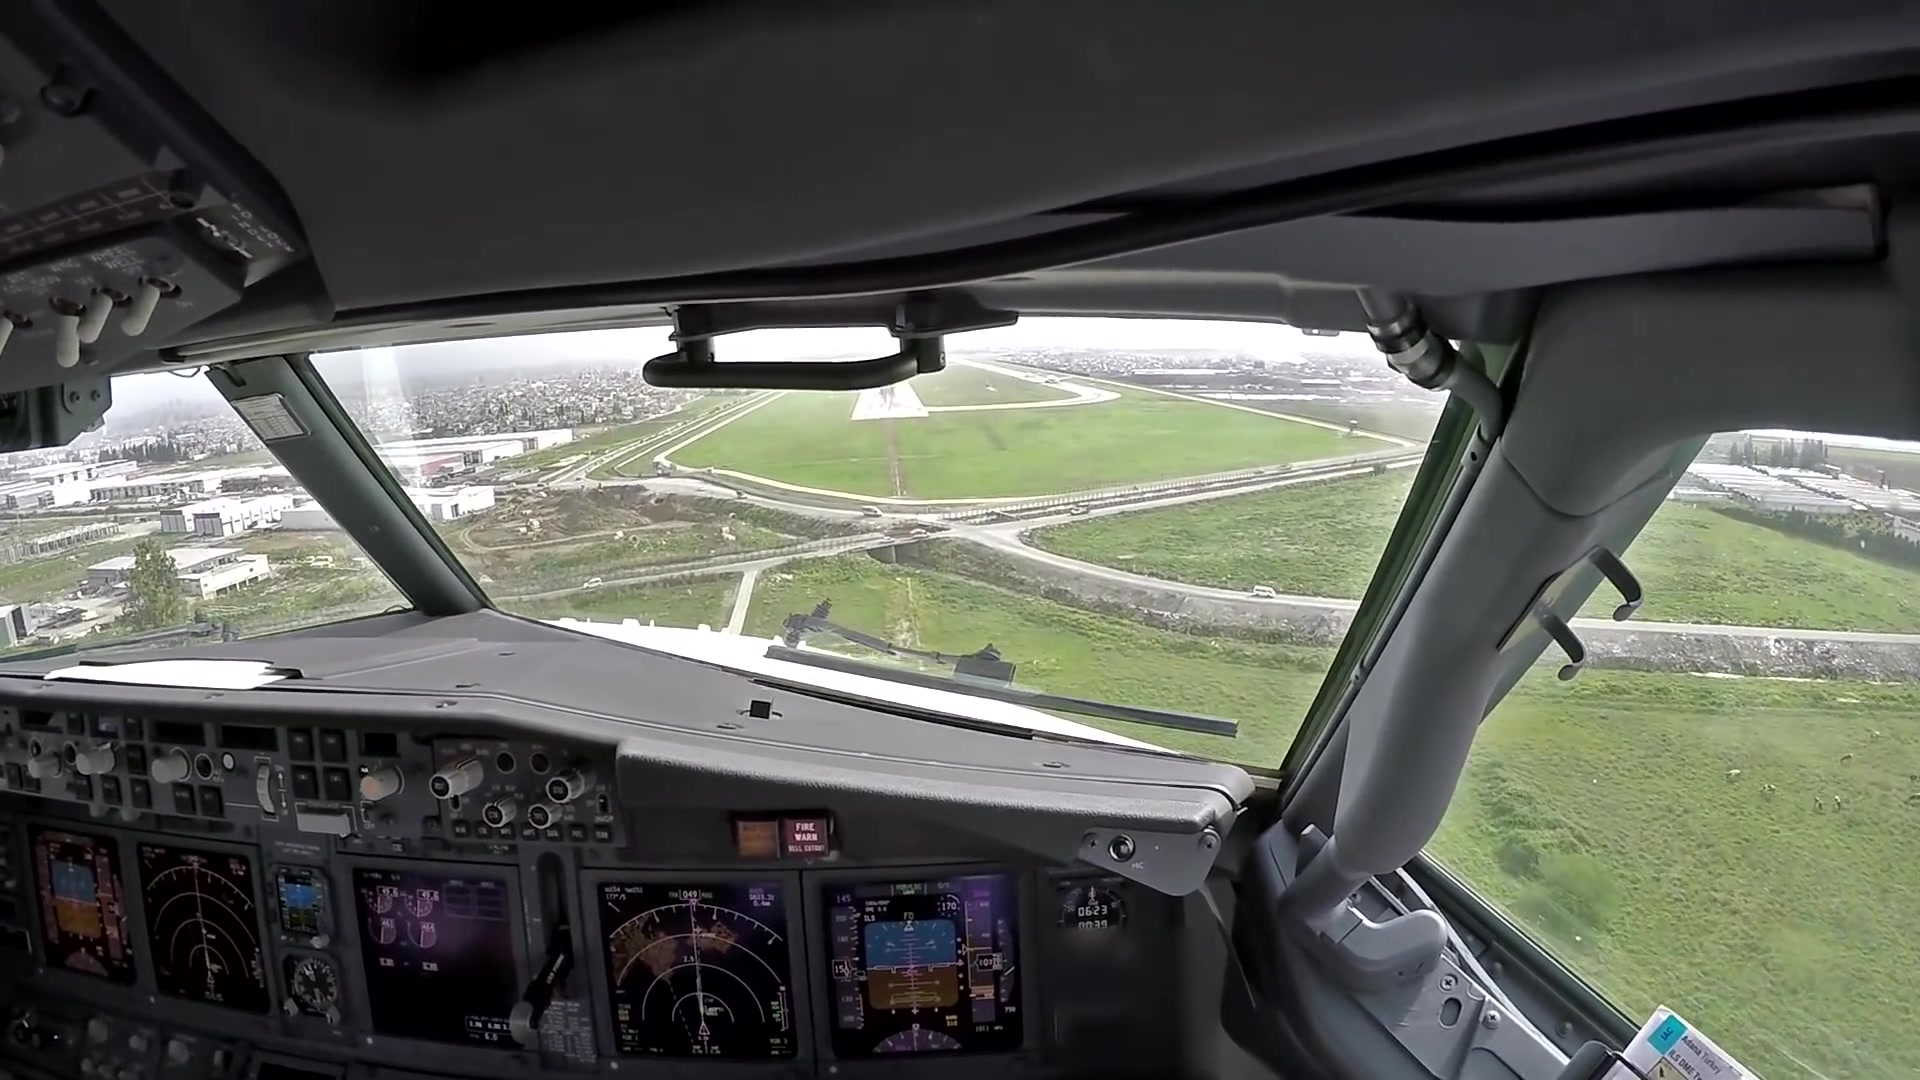runway: (847, 381, 928, 423)
